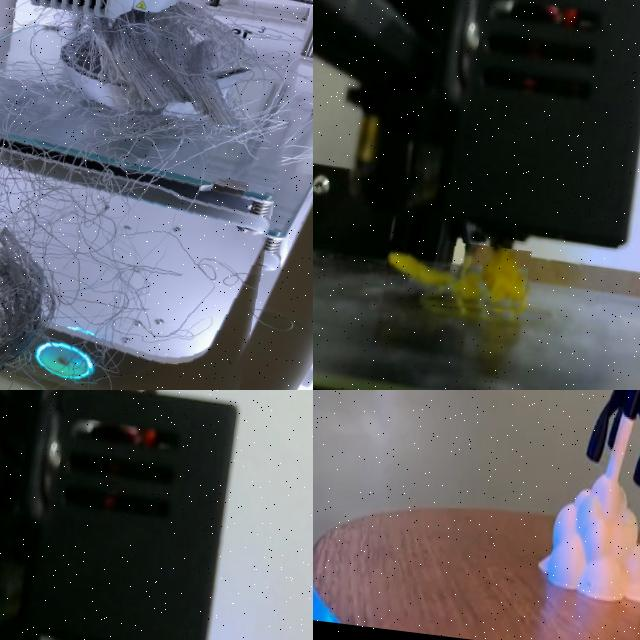spaghetti: (0, 0, 311, 390), (387, 246, 527, 309)
